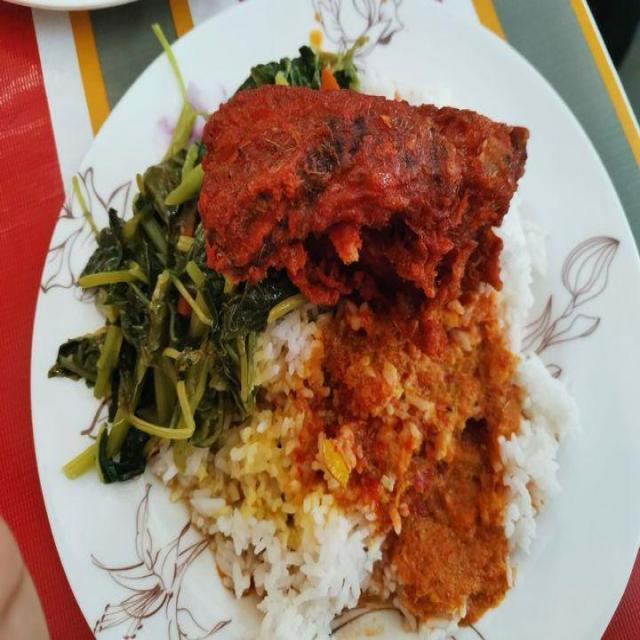Fish: (198, 85, 529, 299)
Plate: (352, 0, 639, 639)
Rice: (152, 203, 575, 640)
Vegetables: (49, 105, 285, 480)
